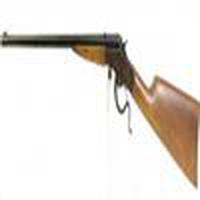gun: (1, 28, 200, 158)
